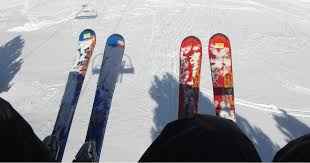skis: (41, 27, 127, 163), (175, 32, 238, 126)
